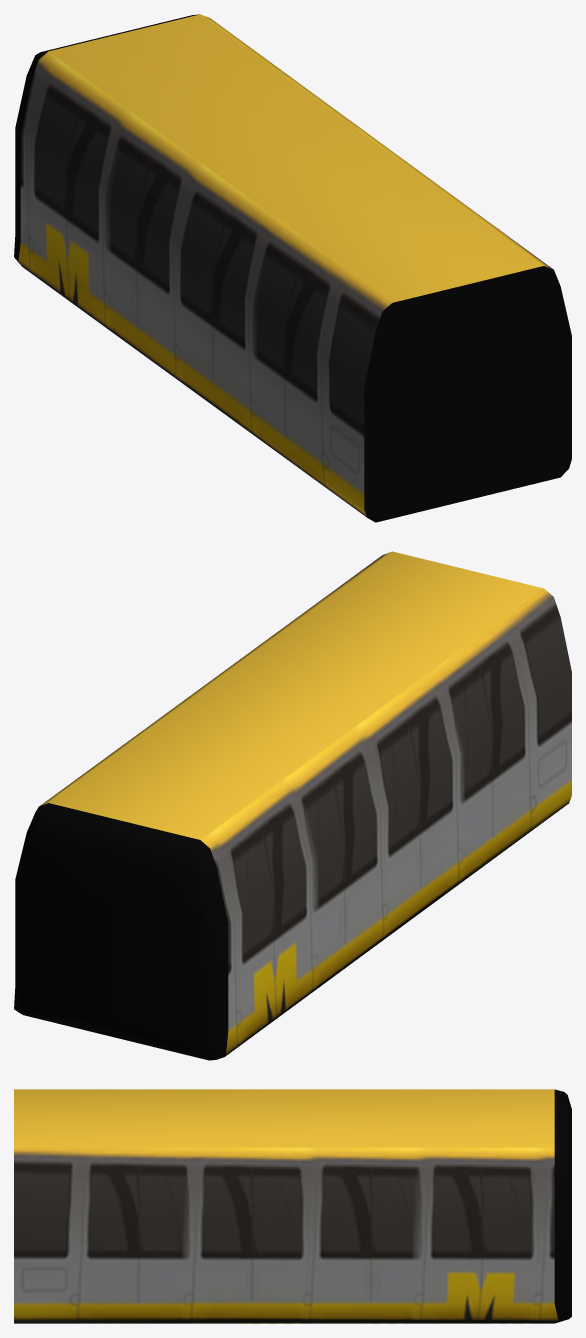
File: train4back.FBX
3 renders of one model, top to bottom at view 1: azimuth 30°, elevation 25°; view 2: azimuth 150°, elevation 25°; view 3: azimuth 270°, elevation 25°, orthographic. The views are drawn at different scales.
Parts seen in each view (by area): view 1: Box006; view 2: Box006; view 3: Box006.
Part boxes in pixels (x1,y1,x2,y2): Box006: (14, 14, 571, 522); Box006: (14, 551, 571, 1060); Box006: (14, 1089, 571, 1323).
Size of the model in its own units: 1501 by 1490 by 4441.
